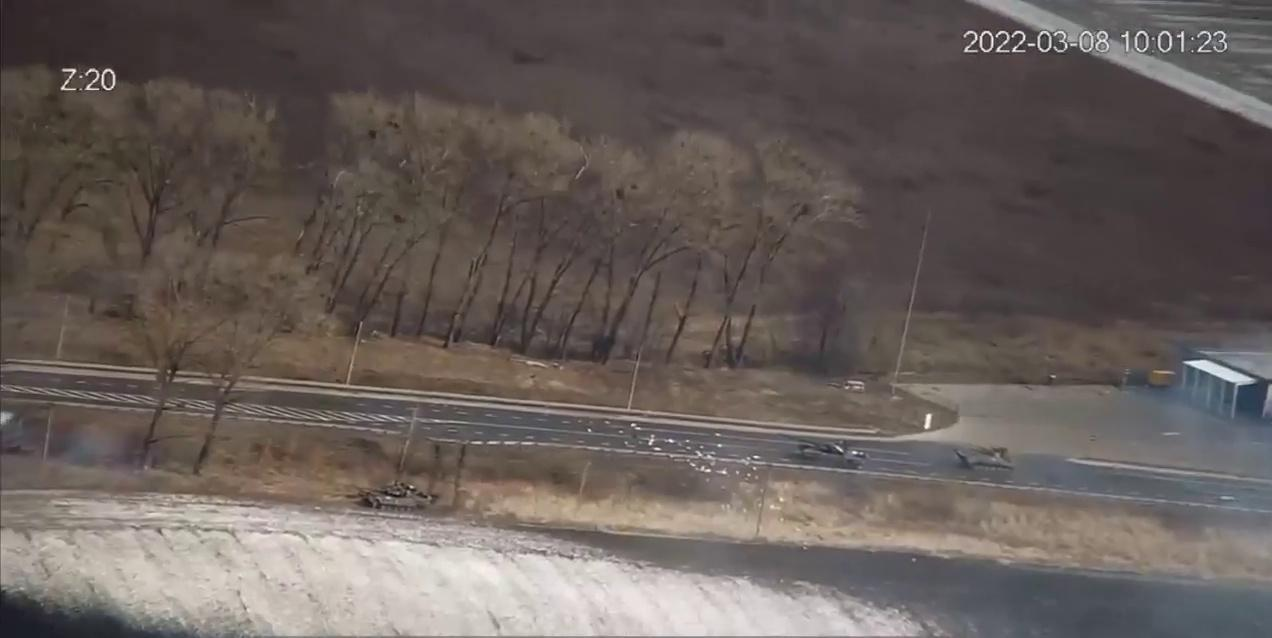tank: (354, 476, 438, 521), (777, 432, 870, 470), (953, 445, 1014, 472)
